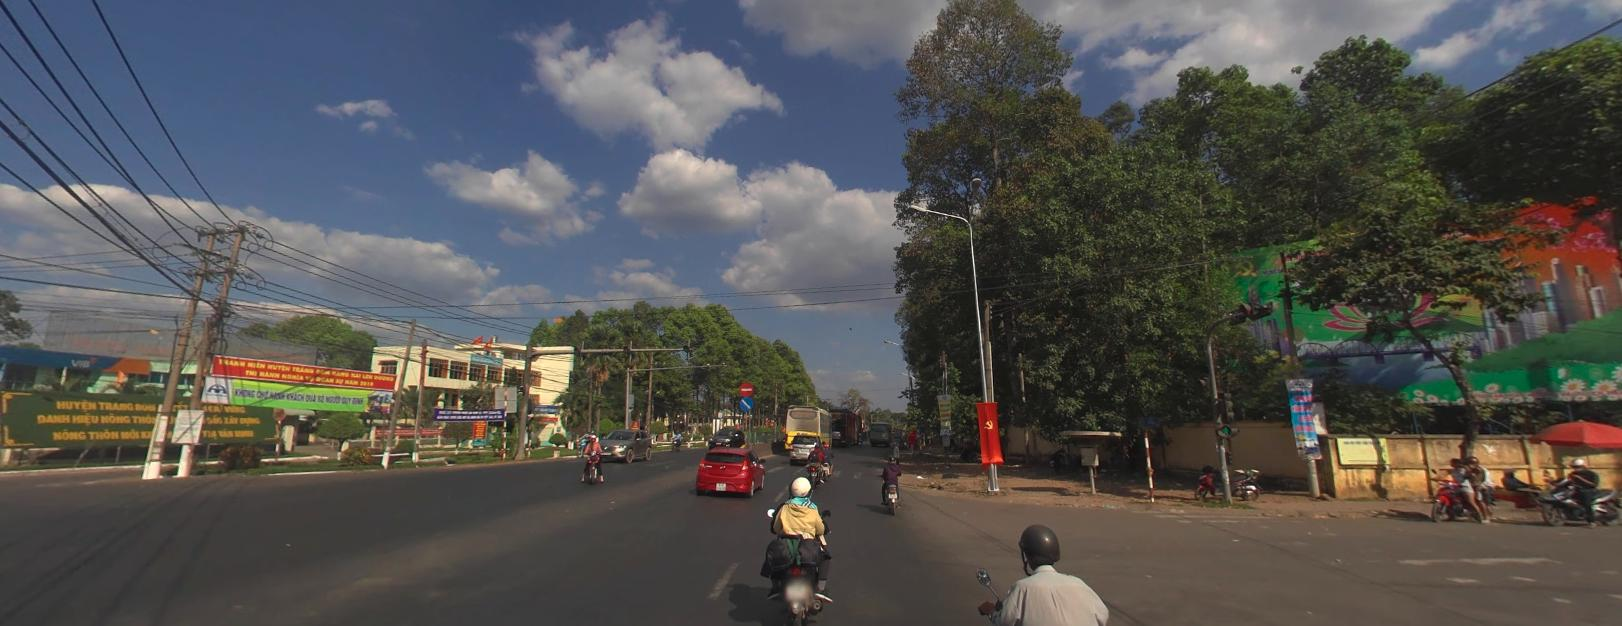Cam nguoc chieu: (739, 380, 753, 394)
Hieu lenh: (739, 395, 753, 409)
